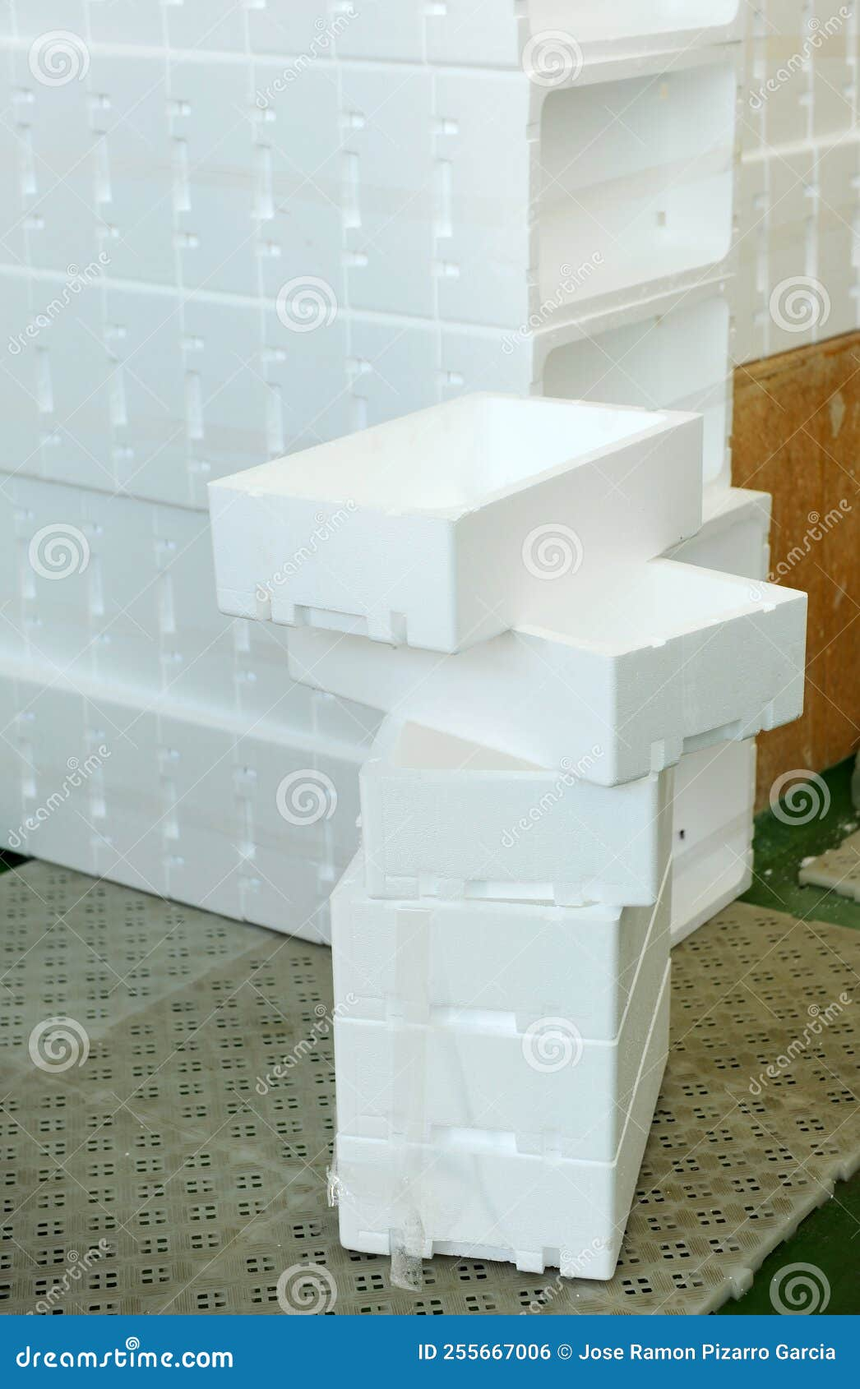泡沫箱: (210, 402, 785, 1278)
